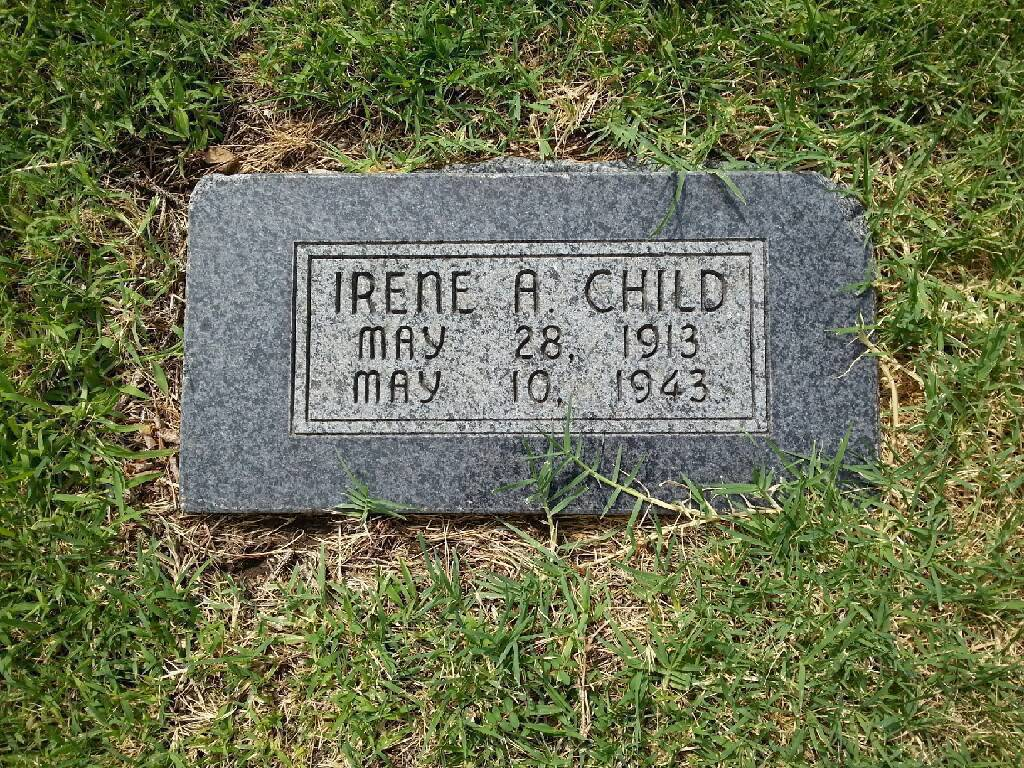flat: (176, 161, 882, 523)
